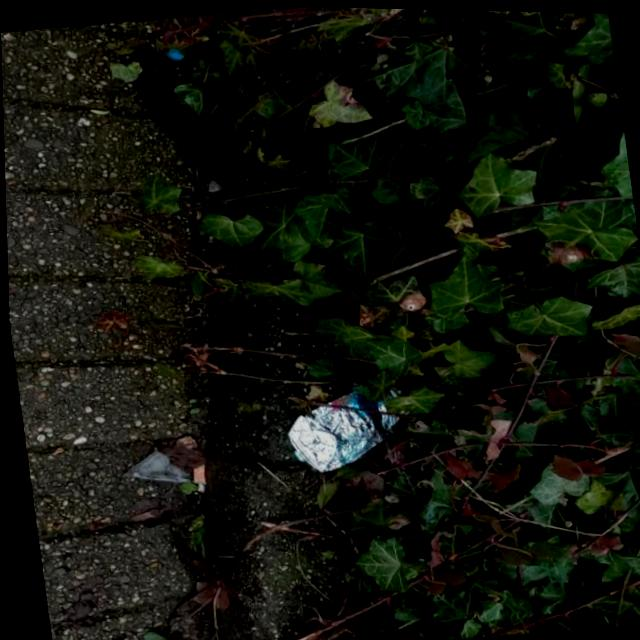Can-Metal: (275, 372, 422, 478)
Mask: (116, 32, 285, 195)
